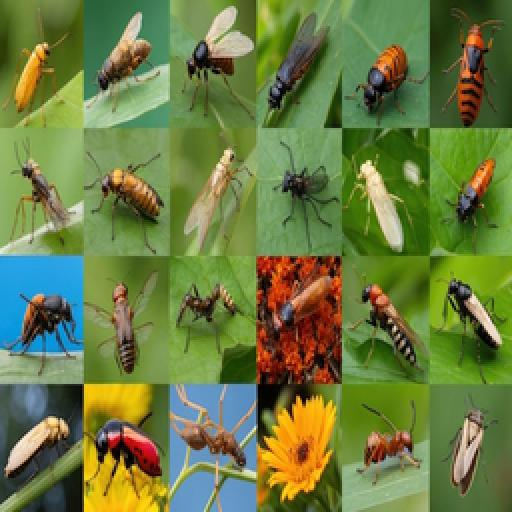insects: (178, 4, 256, 108), (182, 146, 252, 256), (260, 10, 330, 118), (348, 400, 430, 490), (352, 272, 422, 372), (8, 144, 72, 248), (450, 8, 506, 126), (258, 276, 336, 358), (88, 414, 162, 498), (440, 274, 508, 364), (88, 148, 168, 224), (178, 270, 250, 350), (172, 394, 252, 466), (102, 274, 156, 380), (352, 150, 408, 252), (6, 22, 64, 118), (94, 12, 154, 100), (8, 290, 78, 362), (348, 40, 412, 118), (272, 146, 334, 224), (4, 414, 78, 478), (450, 398, 492, 500), (450, 154, 504, 232)
